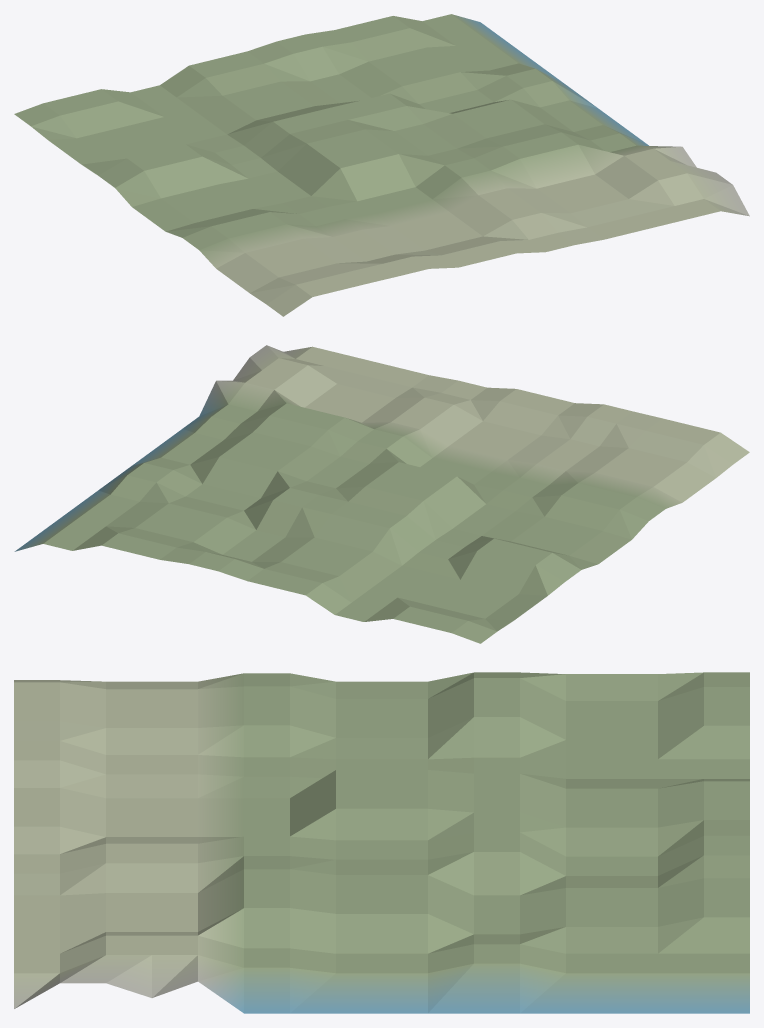
3 views of the same model, one above another, from view 1: azimuth 30°, elevation 25°; view 2: azimuth 150°, elevation 25°; view 3: azimuth 270°, elevation 25° (orthographic). The views are drawn at different scales.
Bounding box in the file's own units: 32 × 2.36 × 32.
